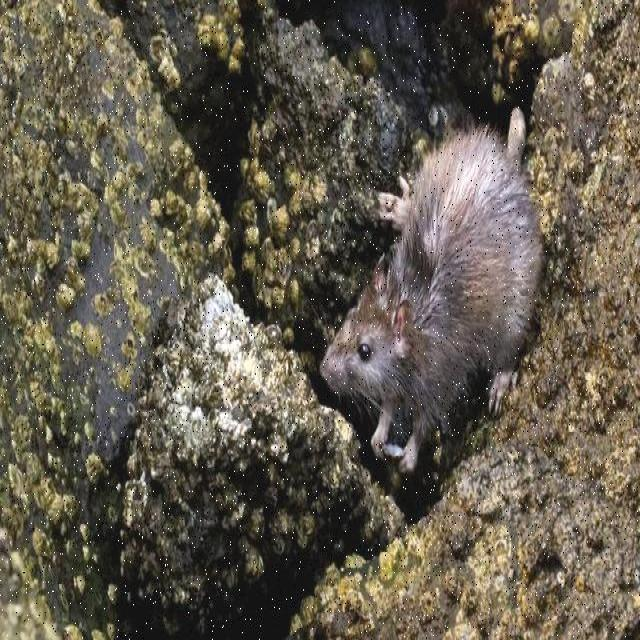rat: (315, 125, 522, 479)
